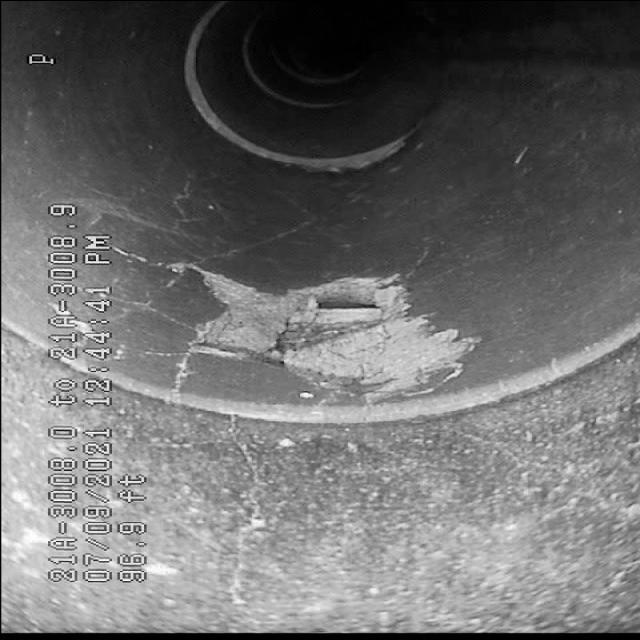Crack: (186, 420, 286, 600)
Fracture: (161, 262, 444, 382)
